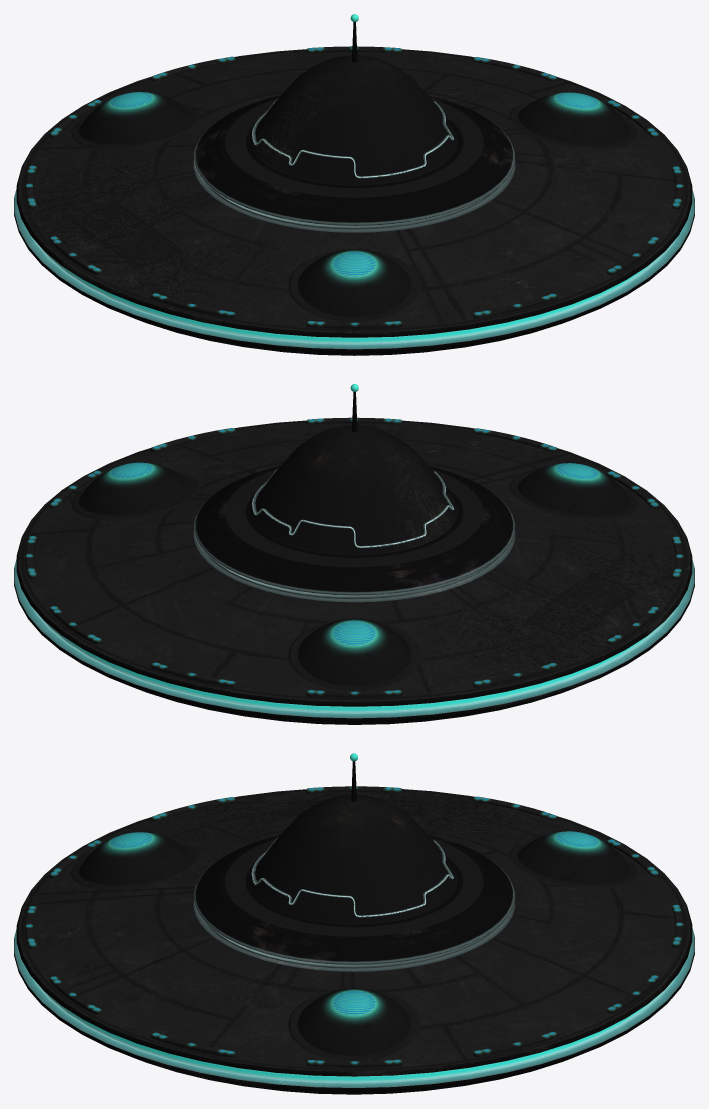
The model's file is ufo.glb.
The picture shows the model from 3 angles, top to bottom: view 1: azimuth 30°, elevation 25°; view 2: azimuth 150°, elevation 25°; view 3: azimuth 270°, elevation 25°; orthographic projection.
Visible parts, largest first — view 1: node_id40_0; view 2: node_id40_0; view 3: node_id40_0.
Part boxes in pixels (left/top/right/bottom): node_id40_0: left=14, top=14, right=694, bottom=355; node_id40_0: left=14, top=384, right=694, bottom=724; node_id40_0: left=14, top=753, right=694, bottom=1094.
Size of the model in its own units: 0.512 by 0.2112 by 0.5111.
1 material, 1 textured.
